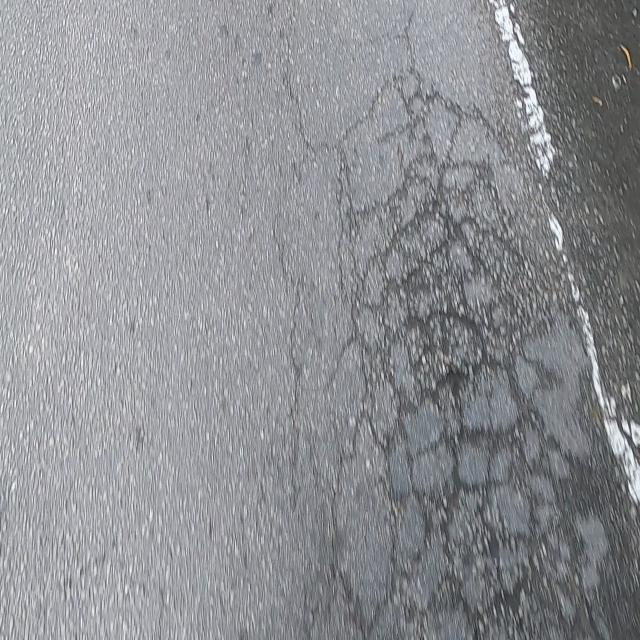Retak-Buaya: (321, 63, 615, 640)
